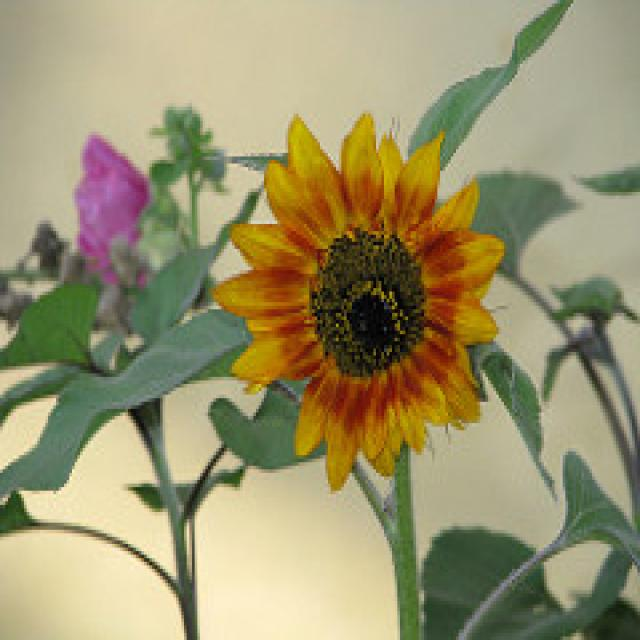sunflower: (208, 110, 512, 494)
